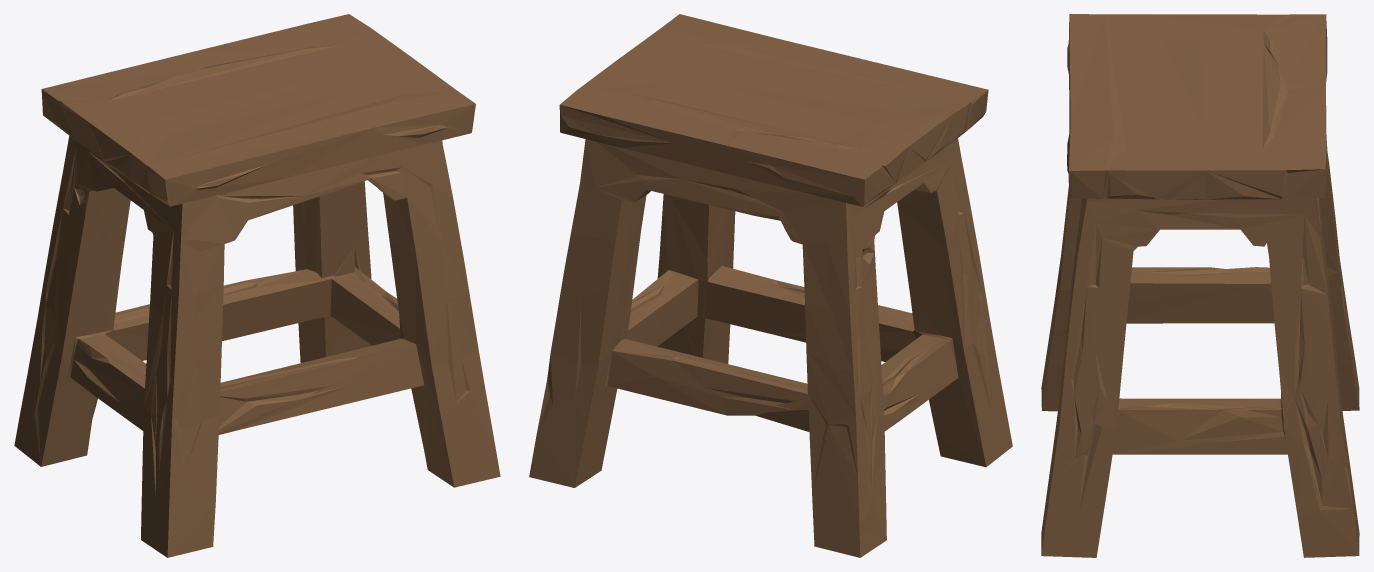
Rendered from S13_timber_stool_a.glb.
3 views of the same model, side by side, from view 1: azimuth 30°, elevation 25°; view 2: azimuth 150°, elevation 25°; view 3: azimuth 270°, elevation 25° (orthographic). The views are drawn at different scales.
Parts seen in each view (by area): view 1: Mesh_0; view 2: Mesh_0; view 3: Mesh_0.
Boxes of the visible parts, x1,y1,x2,y2 form: Mesh_0: [14, 14, 500, 557]; Mesh_0: [529, 14, 1012, 557]; Mesh_0: [1041, 14, 1359, 557].
Size of the model in its own units: 0.377 by 0.4 by 0.3007.
